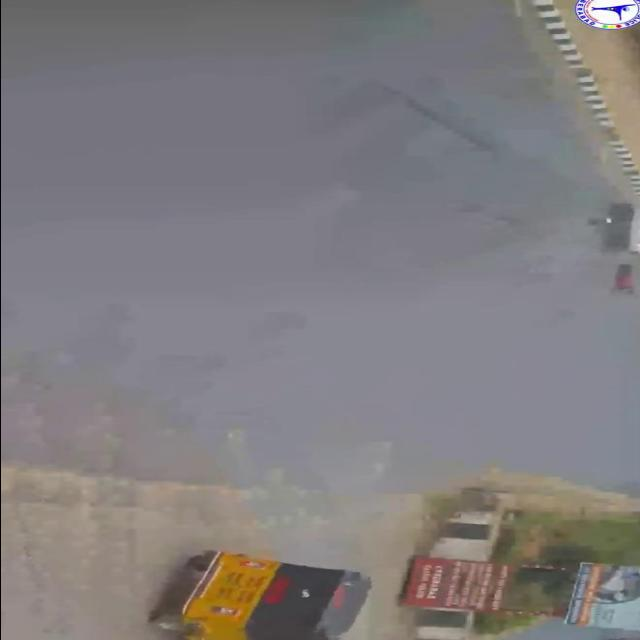accident: (565, 196, 640, 300)
